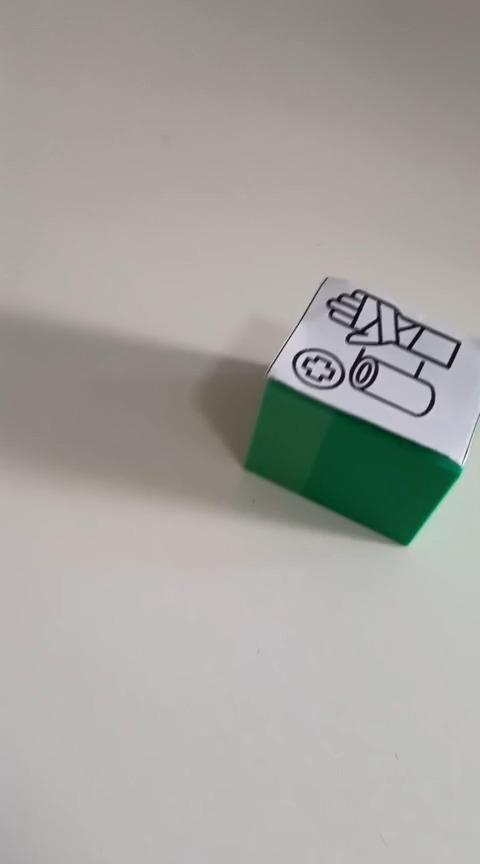Bandages: (241, 274, 479, 546)
